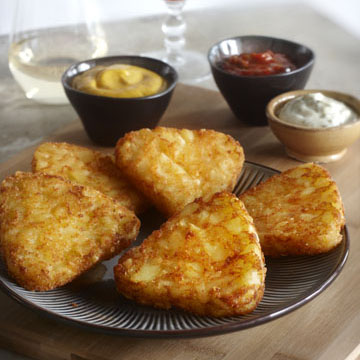triangle_hash_brown: (7, 132, 329, 309)
